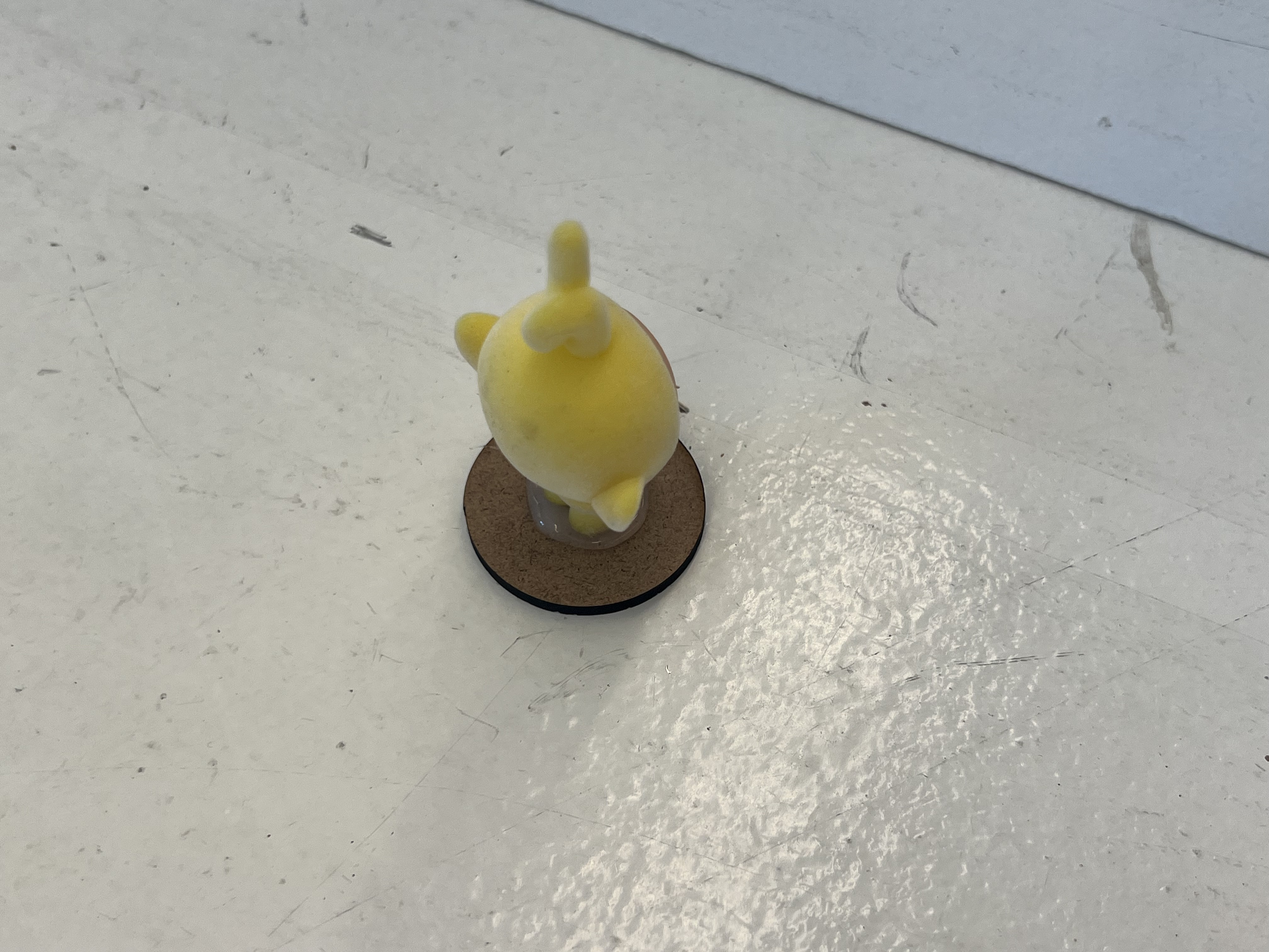teletubby: (455, 221, 679, 536)
